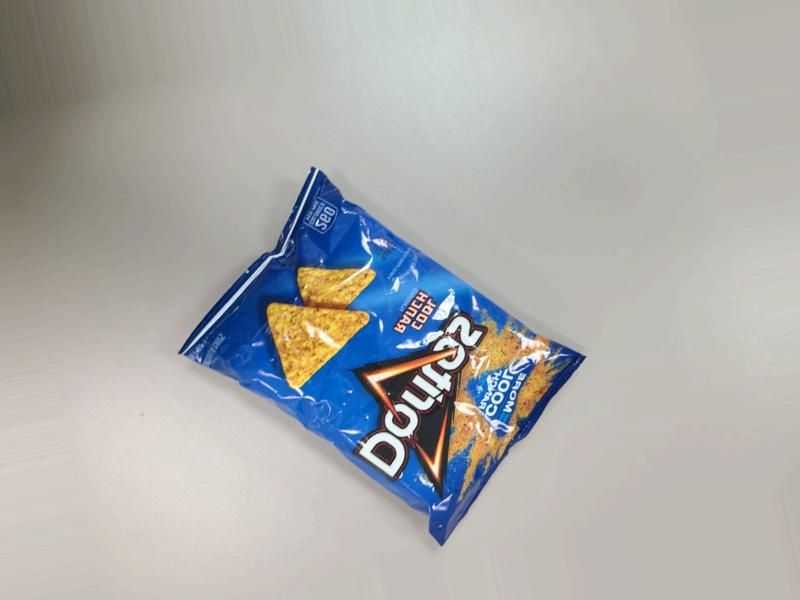doritos: (201, 136, 573, 558)
